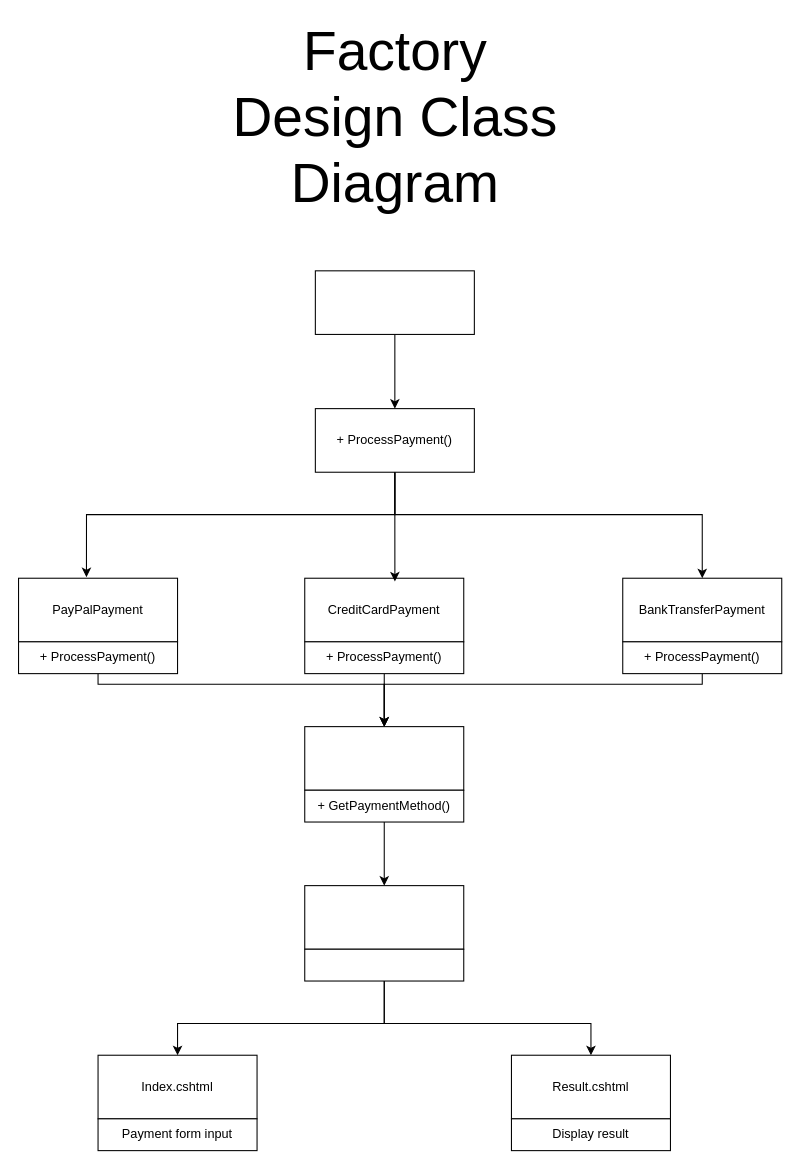
The diagram is 800 pixels wide and 1169 high, and some of its shapes have lost their labels. Here are the shapes that lost their labels. From the top down, the centre of each, then its label:
pixel 394 302: IPaymentMethod
pixel 384 758: PaymentFactory
pixel 384 917: PaymentController
pixel 384 964: Uses Views
